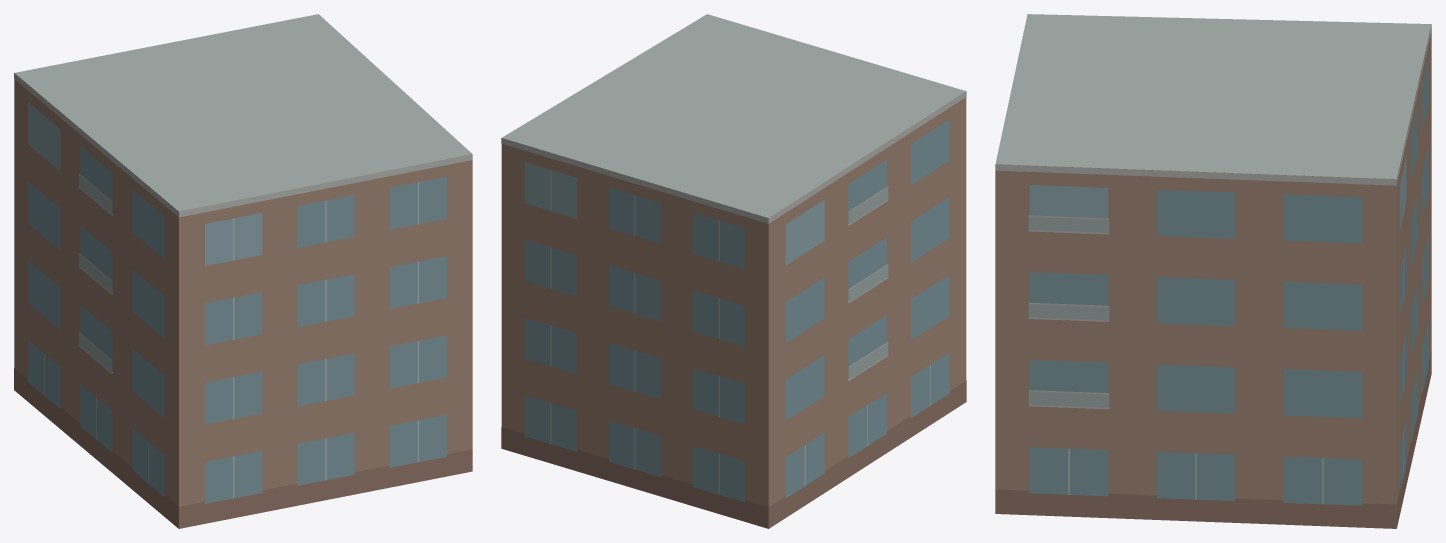
The model's file is survey-upis-32959483.glb.
3 views of the same model, side by side, from view 1: azimuth 30°, elevation 25°; view 2: azimuth 150°, elevation 25°; view 3: azimuth 270°, elevation 25° (orthographic). The views are drawn at different scales.
Visible parts, largest first — view 1: survey-upis-32959483.tmp; view 2: survey-upis-32959483.tmp; view 3: survey-upis-32959483.tmp.
Boxes of the visible parts, box(x1,y1,x2,y2) form: survey-upis-32959483.tmp: box(14, 14, 472, 528); survey-upis-32959483.tmp: box(501, 14, 966, 528); survey-upis-32959483.tmp: box(995, 14, 1431, 528).
Size of the model in its own units: 13.39 by 13.2 by 14.93.
